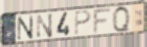4: (55, 11, 73, 38)
F: (93, 7, 113, 36)
N: (17, 14, 34, 41), (36, 12, 53, 39)
P: (74, 10, 93, 37)
Q: (112, 5, 132, 34)
